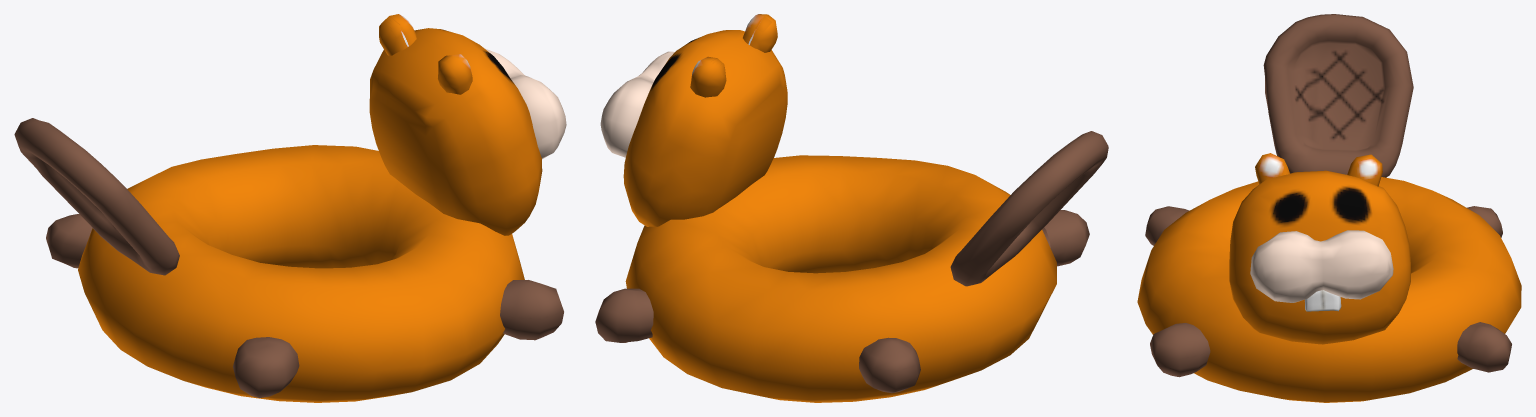
File: Phao16.fbx
3 renders of one model, left to right at view 1: azimuth 30°, elevation 25°; view 2: azimuth 150°, elevation 25°; view 3: azimuth 270°, elevation 25°, orthographic. The views are drawn at different scales.
Parts seen in each view (by area): view 1: Beaver_Beaver_0.001; view 2: Beaver_Beaver_0.001; view 3: Beaver_Beaver_0.001.
Boxes of the visible parts, box(x1,y1,x2,y2) form: Beaver_Beaver_0.001: box(14, 14, 566, 402); Beaver_Beaver_0.001: box(595, 14, 1108, 402); Beaver_Beaver_0.001: box(1137, 14, 1521, 402).
Size of the model in its own units: 1.6 by 0.8785 by 1.28.
